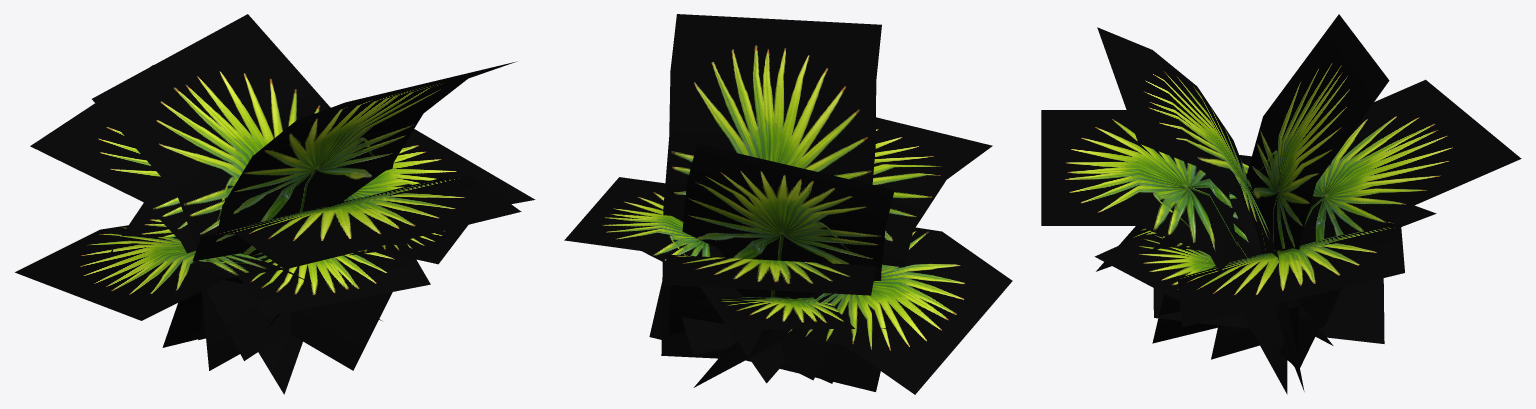
The model's file is Plant_2.fbx.
The picture shows the model from 3 angles, left to right: view 1: azimuth 30°, elevation 25°; view 2: azimuth 150°, elevation 25°; view 3: azimuth 270°, elevation 25°; orthographic projection. The views are drawn at different scales.
Visible parts, largest first — view 1: Plant alpha 2; view 2: Plant alpha 2; view 3: Plant alpha 2.
Part boxes in pixels (bbox=[...]): Plant alpha 2: bbox=[15, 14, 535, 394]; Plant alpha 2: bbox=[564, 14, 1012, 394]; Plant alpha 2: bbox=[1041, 14, 1521, 394].
Bounding box in the file's own units: 371 × 284 × 369.
Materials: 1 (1 with a texture image).
